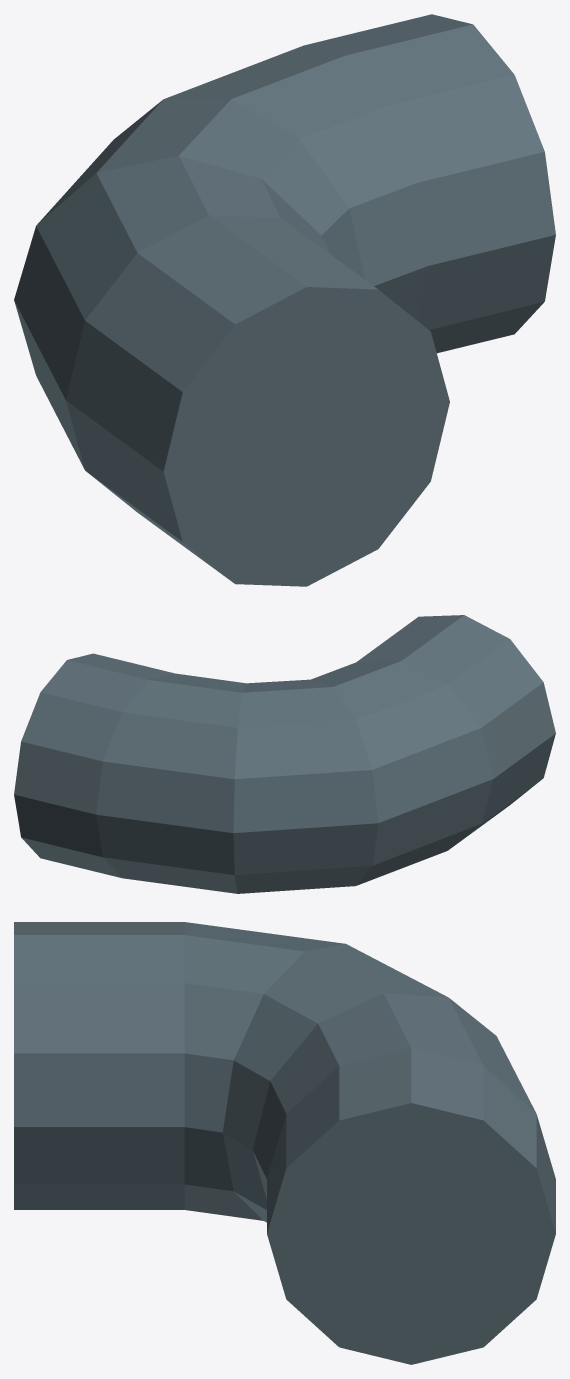
The model's file is SM_Factory_Large_pipe_Corner.glb.
3 views of the same model, one above another, from view 1: azimuth 30°, elevation 25°; view 2: azimuth 150°, elevation 25°; view 3: azimuth 270°, elevation 25° (orthographic). The views are drawn at different scales.
Parts seen in each view (by area): view 1: SM_Factory_Large_pipe_Corner; view 2: SM_Factory_Large_pipe_Corner; view 3: SM_Factory_Large_pipe_Corner.
Boxes of the visible parts, x1,y1,x2,y2 form: SM_Factory_Large_pipe_Corner: (14,14,555,586); SM_Factory_Large_pipe_Corner: (14,615,555,893); SM_Factory_Large_pipe_Corner: (14,922,555,1364).
Bounding box in the file's own units: 1.5 × 0.8 × 1.5.
Materials: 1 (1 with a texture image).
